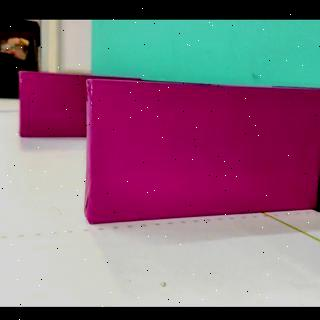xparking: (91, 79, 320, 223), (18, 75, 86, 138)
